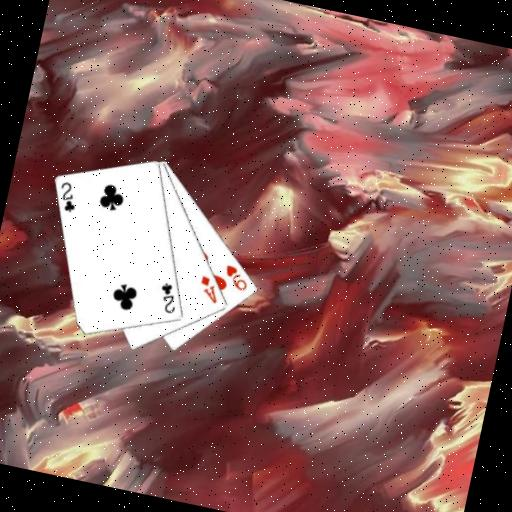2C: (153, 279, 181, 316), (53, 178, 81, 215)
9H: (220, 261, 253, 293)
AD: (194, 271, 224, 305)
